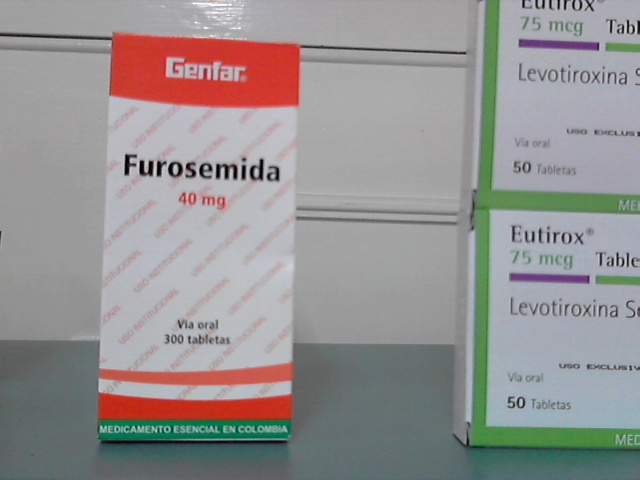Genfar: (104, 34, 296, 438)
